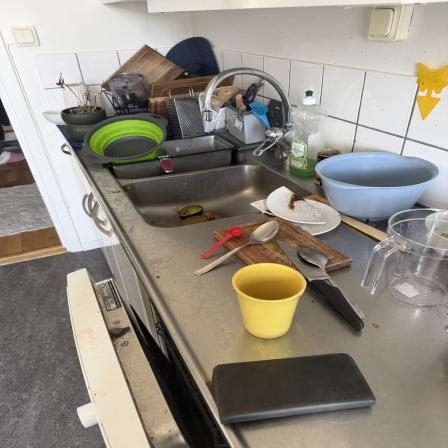phone: (212, 352, 378, 423)
yellow_cup: (230, 261, 307, 340)
